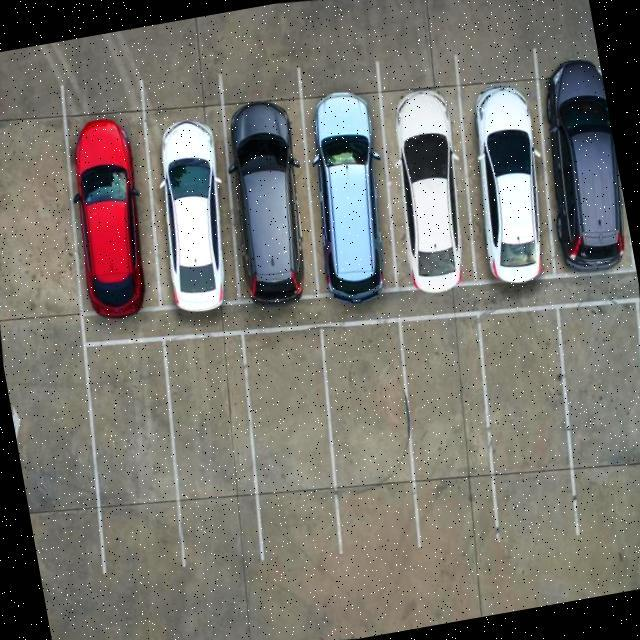space-empty: (144, 326, 284, 574), (225, 320, 362, 560), (382, 307, 517, 544), (308, 318, 441, 556), (462, 303, 595, 537), (67, 335, 197, 571), (537, 291, 640, 534)
space-occupied: (204, 80, 341, 314), (282, 70, 414, 304), (435, 53, 565, 287), (358, 69, 494, 292), (124, 91, 256, 316), (45, 102, 179, 320), (514, 54, 636, 285)
